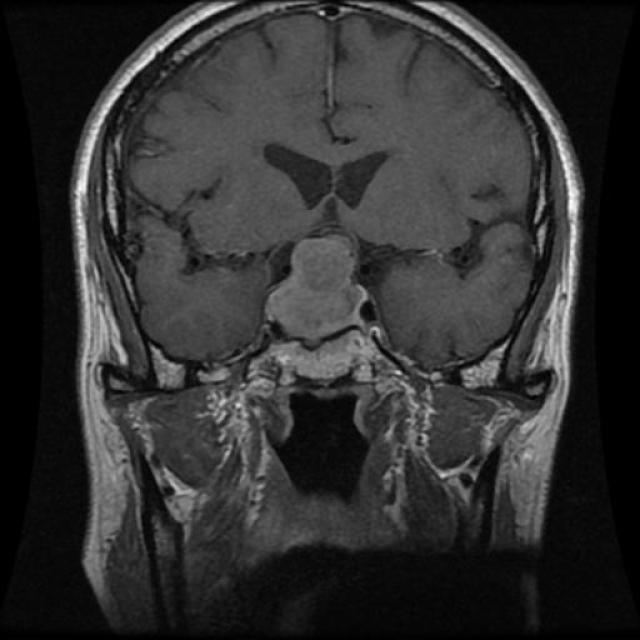pituitary: (258, 232, 386, 386)
